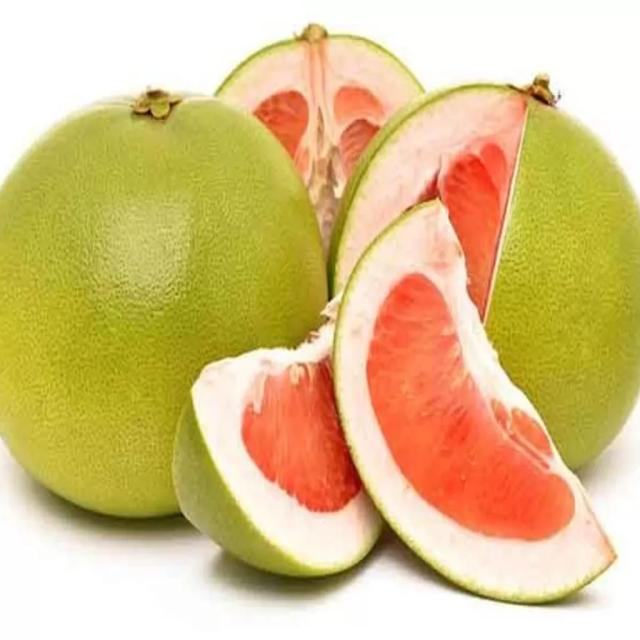Organik: (0, 82, 328, 530), (329, 192, 636, 605), (340, 71, 640, 467), (160, 286, 377, 584), (217, 32, 434, 235)
